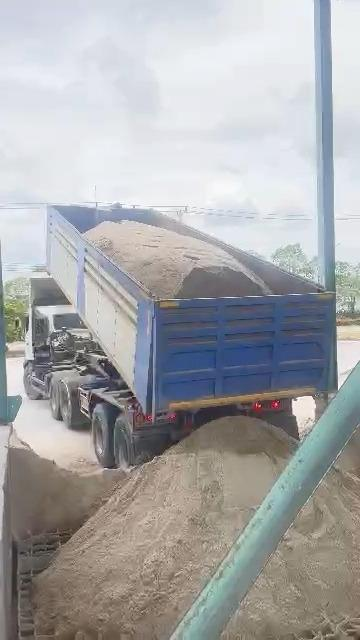sand: (34, 418, 295, 639), (225, 468, 360, 639), (85, 221, 271, 298), (10, 437, 124, 539), (295, 616, 360, 639), (335, 424, 360, 478)
